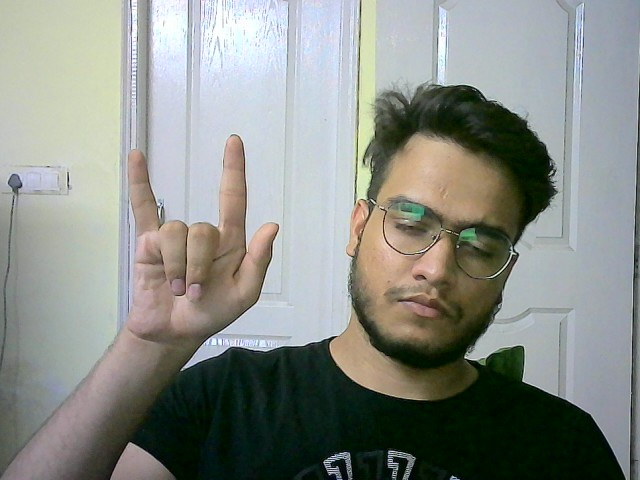I Love You: (124, 126, 280, 339)
